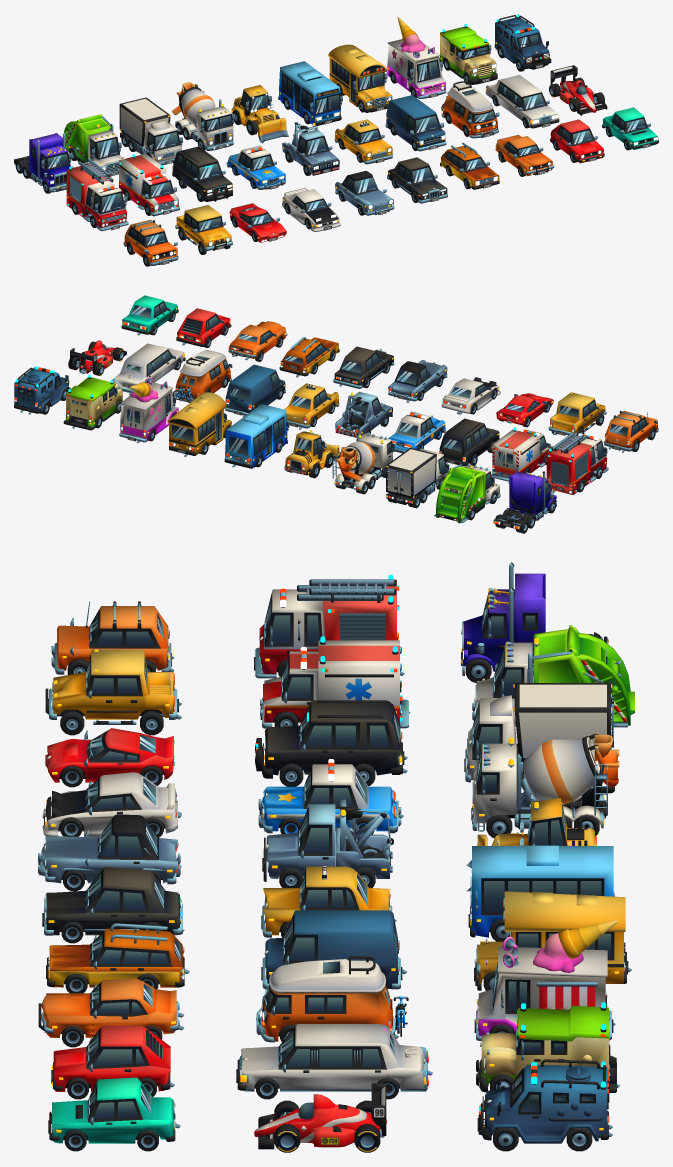
3 views of the same model, one above another, from view 1: azimuth 30°, elevation 25°; view 2: azimuth 150°, elevation 25°; view 3: azimuth 270°, elevation 25° (orthographic). The views are drawn at different scales.
Visible parts, largest first — view 1: huitugou_2167_146, huitugou_2167_114, huitugou_2167_54, huitugou_2167_17, huitugou_2167_24, huitugou_2167_126, huitugou_2167_161, huitugou_2167_156, huitugou_2167_151, huitugou_2167_34, huitugou_2167_29, huitugou_2167_109 (+18 smaller); view 2: huitugou_2167_114, huitugou_2167_146, huitugou_2167_54, huitugou_2167_17, huitugou_2167_151, huitugou_2167_24, huitugou_2167_126, huitugou_2167_156, huitugou_2167_161, huitugou_2167_12, huitugou_2167_34, huitugou_2167_109 (+18 smaller); view 3: huitugou_2167_29, huitugou_2167_126, huitugou_2167_17, huitugou_2167_146, huitugou_2167_74, huitugou_2167_109, huitugou_2167_141, huitugou_2167_161, huitugou_2167_24, huitugou_2167_114, huitugou_2167_151, huitugou_2167_156 (+18 smaller).
Part boxes in pixels (x1,y1,x2,y2): huitugou_2167_146: [66, 159, 128, 231]; huitugou_2167_114: [278, 61, 342, 125]; huitugou_2167_54: [328, 44, 392, 112]; huitugou_2167_17: [386, 17, 446, 98]; huitugou_2167_24: [119, 97, 182, 165]; huitugou_2167_126: [172, 82, 234, 150]; huitugou_2167_161: [119, 153, 179, 216]; huitugou_2167_156: [439, 24, 497, 84]; huitugou_2167_151: [63, 114, 124, 175]; huitugou_2167_34: [385, 95, 446, 151]; huitugou_2167_29: [485, 75, 559, 128]; huitugou_2167_109: [441, 81, 499, 138]; huitugou_2167_114: [224, 404, 289, 468]; huitugou_2167_146: [546, 432, 608, 494]; huitugou_2167_54: [167, 392, 231, 456]; huitugou_2167_17: [119, 377, 178, 443]; huitugou_2167_151: [434, 462, 500, 523]; huitugou_2167_24: [386, 448, 449, 504]; huitugou_2167_126: [332, 433, 394, 490]; huitugou_2167_156: [63, 374, 122, 430]; huitugou_2167_161: [491, 427, 552, 483]; huitugou_2167_12: [493, 465, 556, 530]; huitugou_2167_34: [225, 364, 285, 417]; huitugou_2167_109: [173, 350, 232, 402]; huitugou_2167_29: [236, 1024, 432, 1091]; huitugou_2167_126: [471, 732, 619, 831]; huitugou_2167_17: [474, 920, 617, 1040]; huitugou_2167_146: [254, 574, 404, 678]; huitugou_2167_74: [477, 1059, 612, 1143]; huitugou_2167_109: [256, 956, 408, 1042]; huitugou_2167_141: [255, 700, 407, 778]; huitugou_2167_161: [259, 636, 410, 728]; huitugou_2167_24: [464, 683, 613, 782]; huitugou_2167_114: [468, 845, 614, 937]; huitugou_2167_151: [472, 625, 634, 727]; huitugou_2167_156: [476, 1002, 619, 1092].
Size of the model in its own units: 3838 by 408 by 1940.
